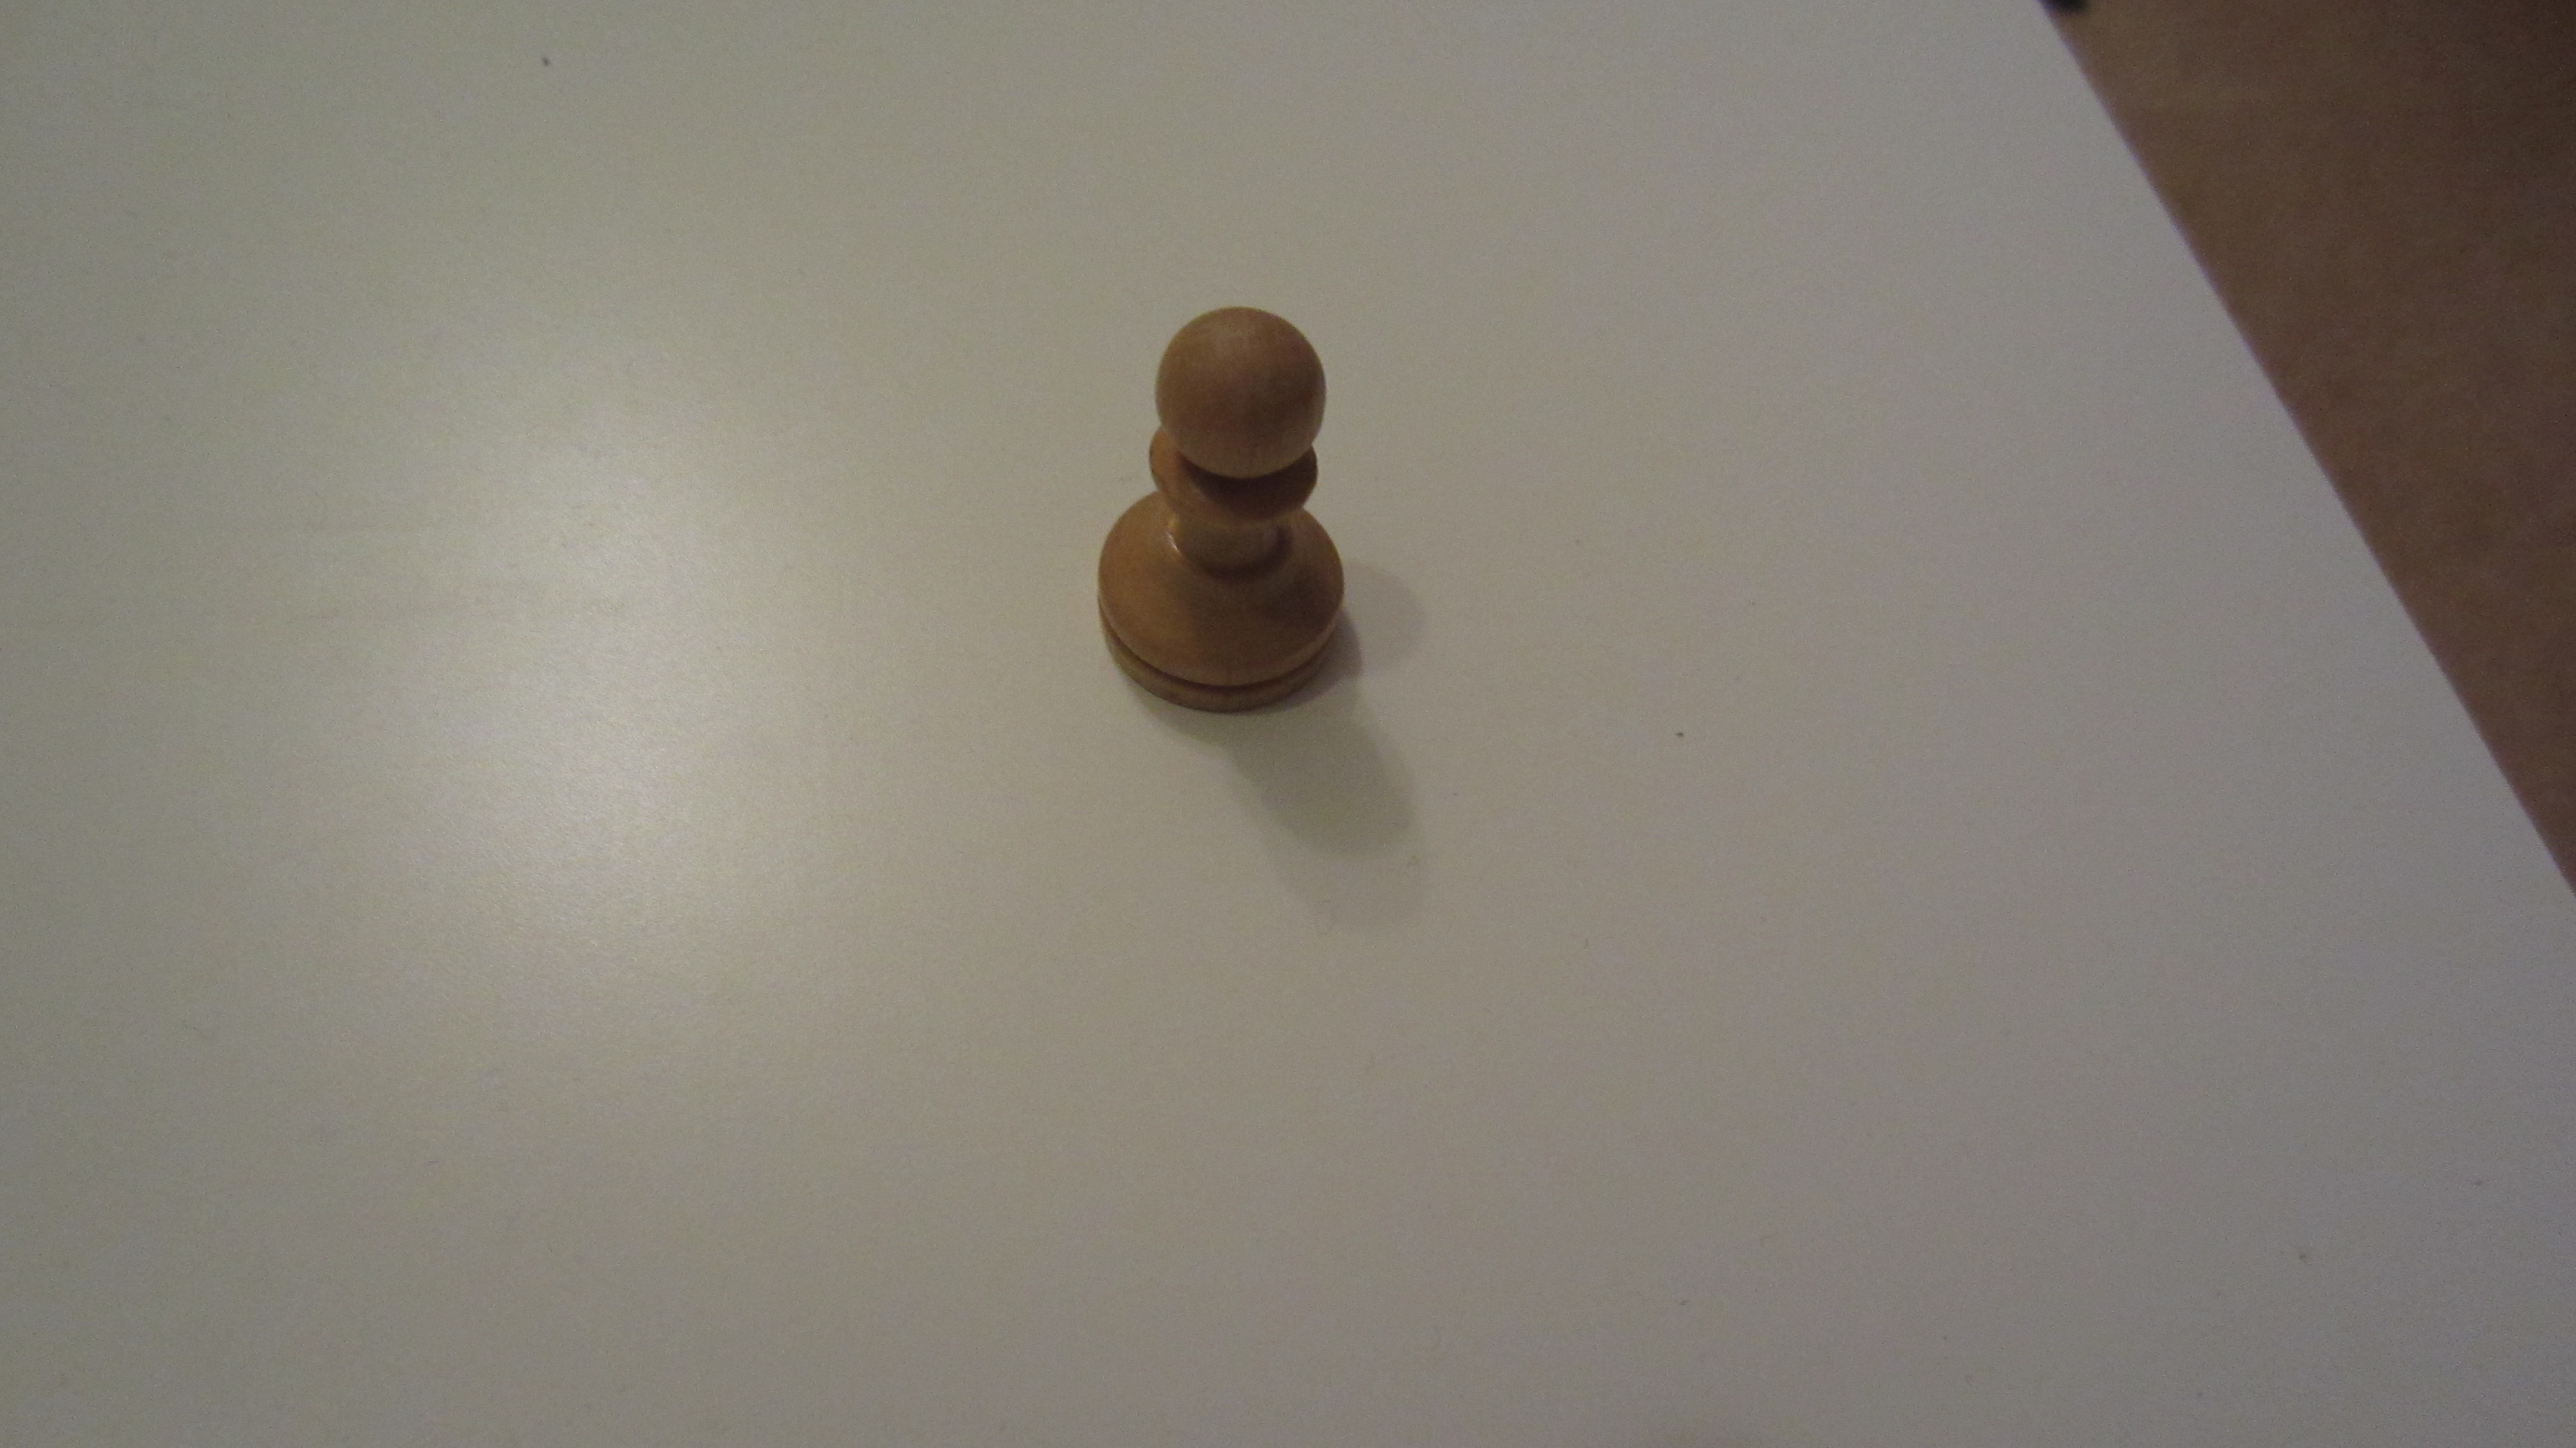white-pawn: (1079, 297, 1353, 720)
